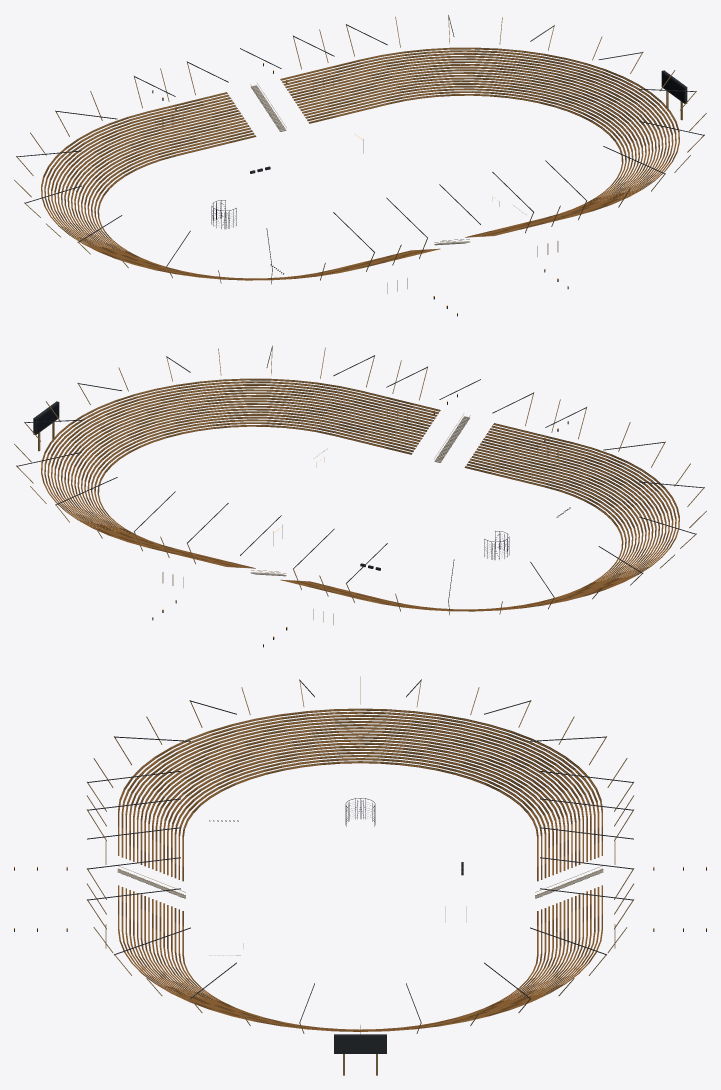
File: dog-athletics-detail.glb
3 renders of one model, top to bottom at view 1: azimuth 30°, elevation 25°; view 2: azimuth 150°, elevation 25°; view 3: azimuth 270°, elevation 25°, orthographic. The views are drawn at different scales.
Visible parts, largest first — view 1: ATHLETICS_DETAIL; view 2: ATHLETICS_DETAIL; view 3: ATHLETICS_DETAIL.
Part boxes in pixels (bbox=[...]): ATHLETICS_DETAIL: bbox=[14, 14, 706, 316]; ATHLETICS_DETAIL: bbox=[14, 345, 706, 647]; ATHLETICS_DETAIL: bbox=[14, 676, 706, 1075].
Bounding box in the file's own units: 251 × 24.69 × 210.
